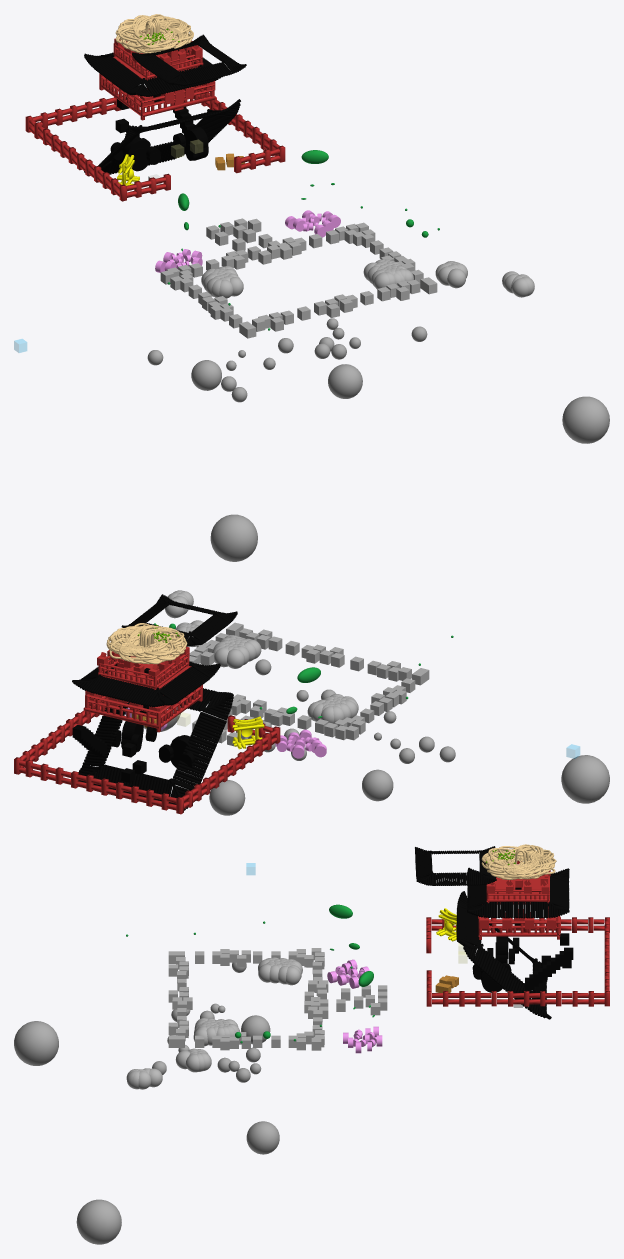
File: Ресторан в японском стиле.glb
3 views of the same model, one above another, from view 1: azimuth 30°, elevation 25°; view 2: azimuth 150°, elevation 25°; view 3: azimuth 270°, elevation 25° (orthographic). The views are drawn at different scales.
Parts seen in each view (by area): view 1: Box177, Loft30, Loft125, Loft428, Loft323, GeoSphere01_4, GeoSphere01_3, Box07, GeoSphere01_7, Box07_2, GeoSphere01; view 2: Box177, Loft125, Loft323, Loft30, Box07, GeoSphere01_3, Loft428, Box07_2, GeoSphere01_7, GeoSphere01, Loft99, Object01_1 (+1 smaller); view 3: Box177, Loft125, Loft323, Loft30, Loft428, GeoSphere01_4, GeoSphere01_3, Box07, GeoSphere01_7, Box07_2, Object01_1.
Boxes of the visible parts, box(x1,y1,x2,y2) form: Box177: box(25, 90, 285, 201); Loft30: box(115, 14, 193, 53); Loft125: box(84, 99, 240, 174); Loft428: box(132, 34, 246, 85); Loft323: box(84, 50, 222, 96); GeoSphere01_4: box(562, 396, 609, 443); GeoSphere01_3: box(210, 514, 257, 561); Box07: box(99, 73, 215, 120); GeoSphere01_7: box(328, 364, 362, 398); Box07_2: box(113, 41, 203, 79); GeoSphere01: box(191, 360, 221, 390); Box177: box(14, 697, 280, 814); Loft125: box(78, 686, 233, 810); Loft323: box(72, 656, 220, 707); Loft30: box(106, 623, 187, 664); Box07: box(85, 683, 202, 732); GeoSphere01_3: box(561, 755, 609, 803); Loft428: box(121, 594, 237, 646); Box07_2: box(98, 652, 189, 689); GeoSphere01_7: box(209, 780, 245, 815); GeoSphere01: box(362, 769, 393, 801); Loft99: box(232, 716, 264, 749); Object01_1: box(103, 656, 191, 689); Box177: box(426, 917, 609, 1006); Loft125: box(456, 891, 551, 1019); Loft323: box(467, 867, 569, 918); Loft30: box(481, 844, 556, 879); Loft428: box(415, 846, 496, 885); GeoSphere01_4: box(76, 1199, 121, 1244); GeoSphere01_3: box(14, 1021, 58, 1065); Box07: box(478, 902, 560, 939); GeoSphere01_7: box(246, 1121, 279, 1154); Box07_2: box(486, 873, 549, 903); Object01_1: box(489, 877, 547, 898).
Bounding box in the file's own units: 1.52 × 0.8882 × 1.62.
